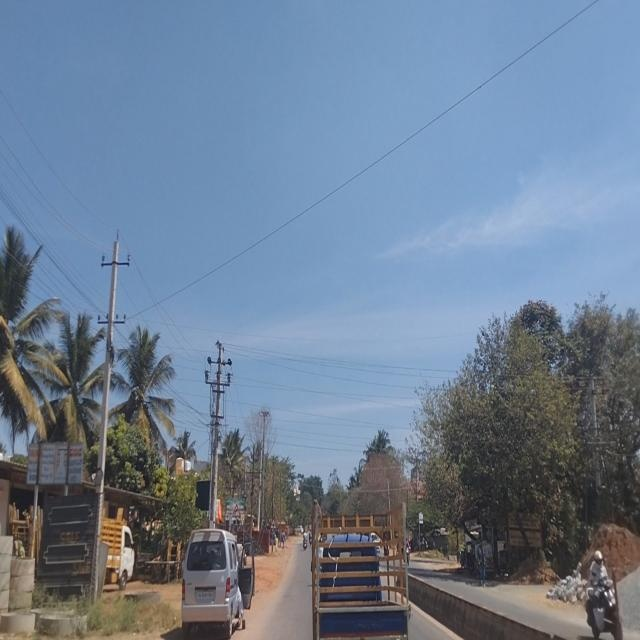bien_nguy_hiem: (232, 503, 240, 518), (270, 518, 276, 529)
